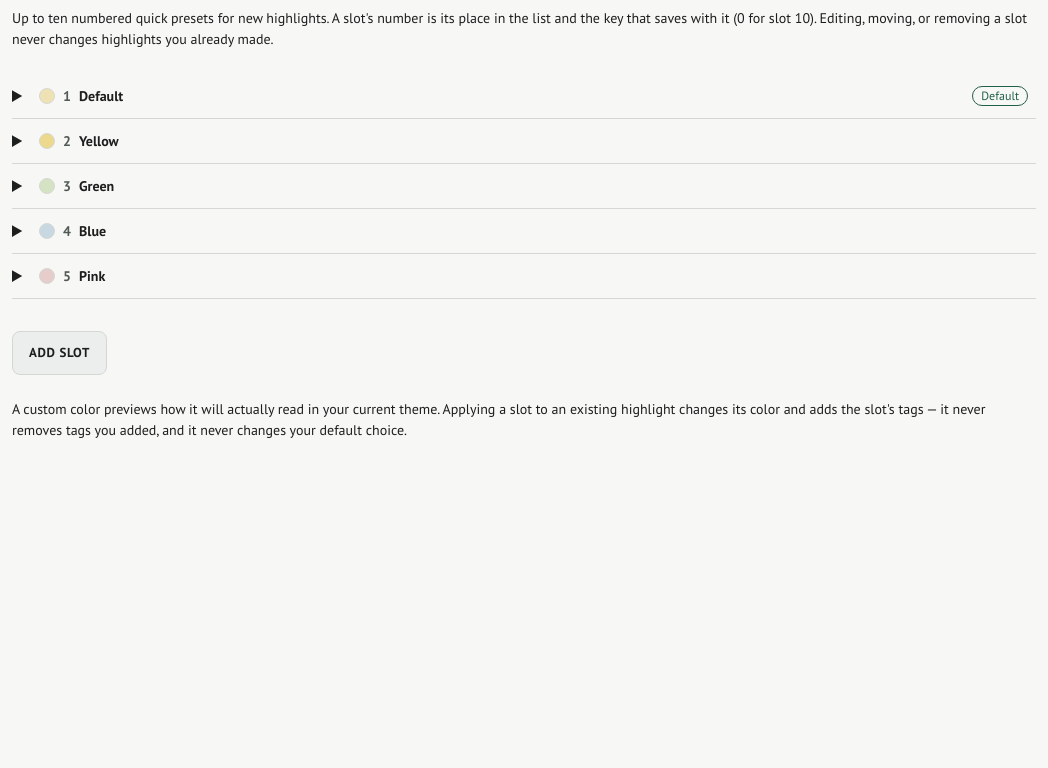
Test: HighlightSlotSettings — the settings accordion (issue #222) › every row leads with ONE decorative disclosure caret; the toggle's name + expanded state stay the announcement (issue #39)
This screenshot has width=1048, height=768.
Expected: the 1st element with class "highlight-slot-row-caret" is empty, [12, 87, 31, 105]
Expected: the 3rd element with class "highlight-slot-row-caret" is empty, [12, 132, 31, 150]
Click the button "2 Yellow".
click(99, 141)  # box [12, 119, 1036, 163]
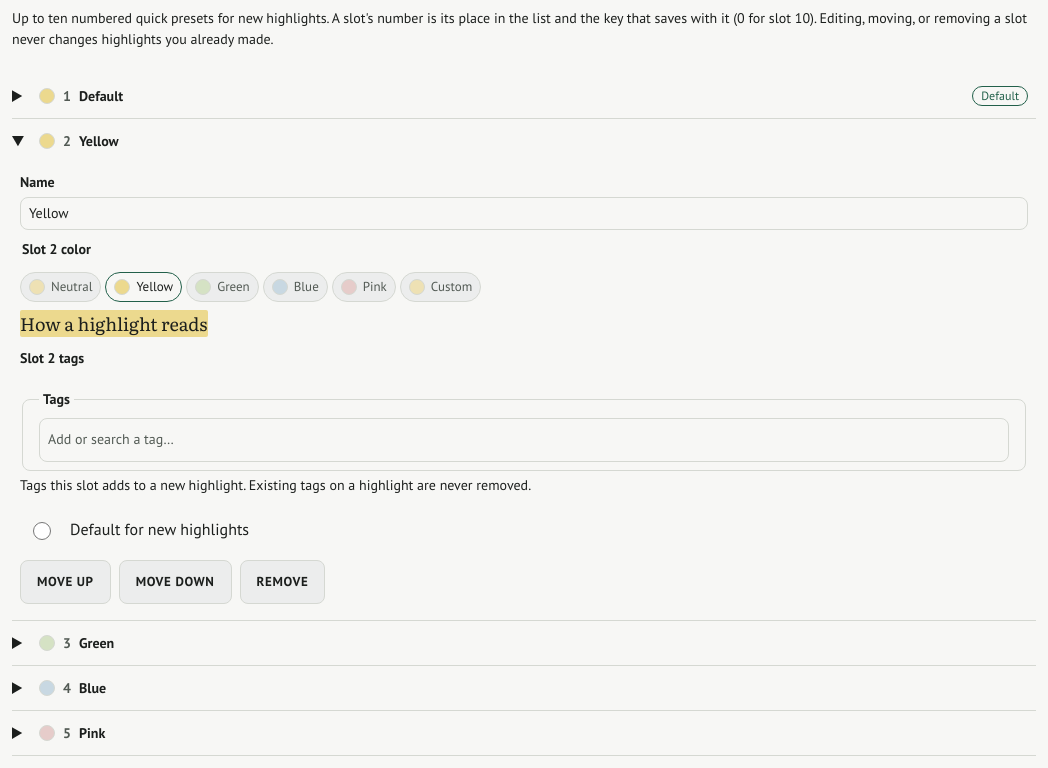
Expected: the button "2 Yellow" is expanded, [12, 119, 1036, 163]
